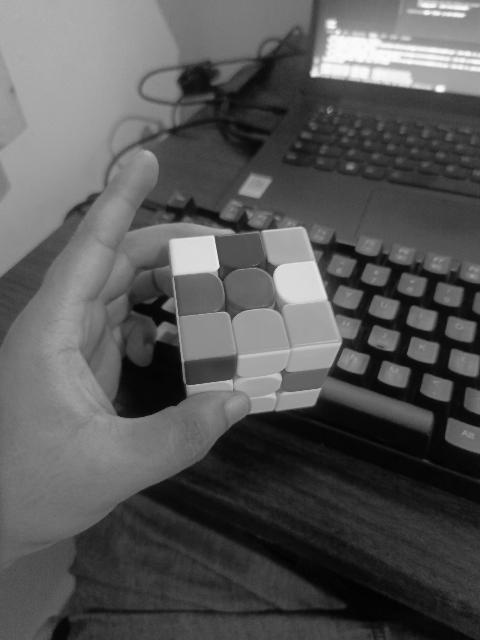rubik: (166, 224, 343, 416)
